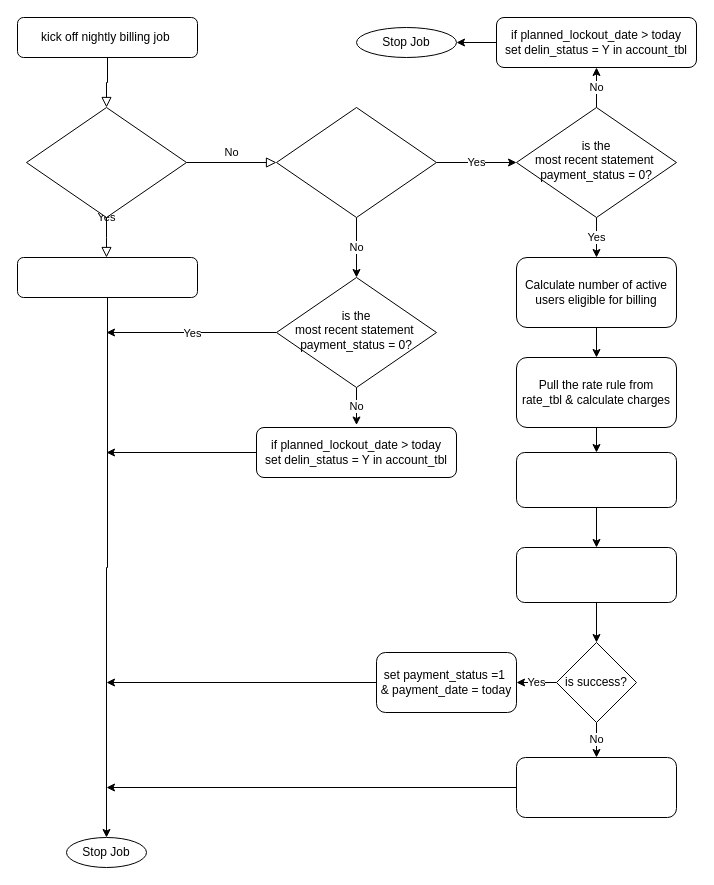
Some shapes in this 714 by 885 pixel diagram are drawn without their labels. The centre of each missing label's shape, as x and y in pixels:
Account already in locked status: [107,277]
account_tbl is delin_status = Y?: [106,162]
create new record in statement_tbl: [596,480]
Process payment: [596,574]
Set payment_status = 0 set planned_lockout_date SEND EMAIL TO ACCOUNT: [596,787]
subscription_tbl next_bill_date = today: [356,162]
